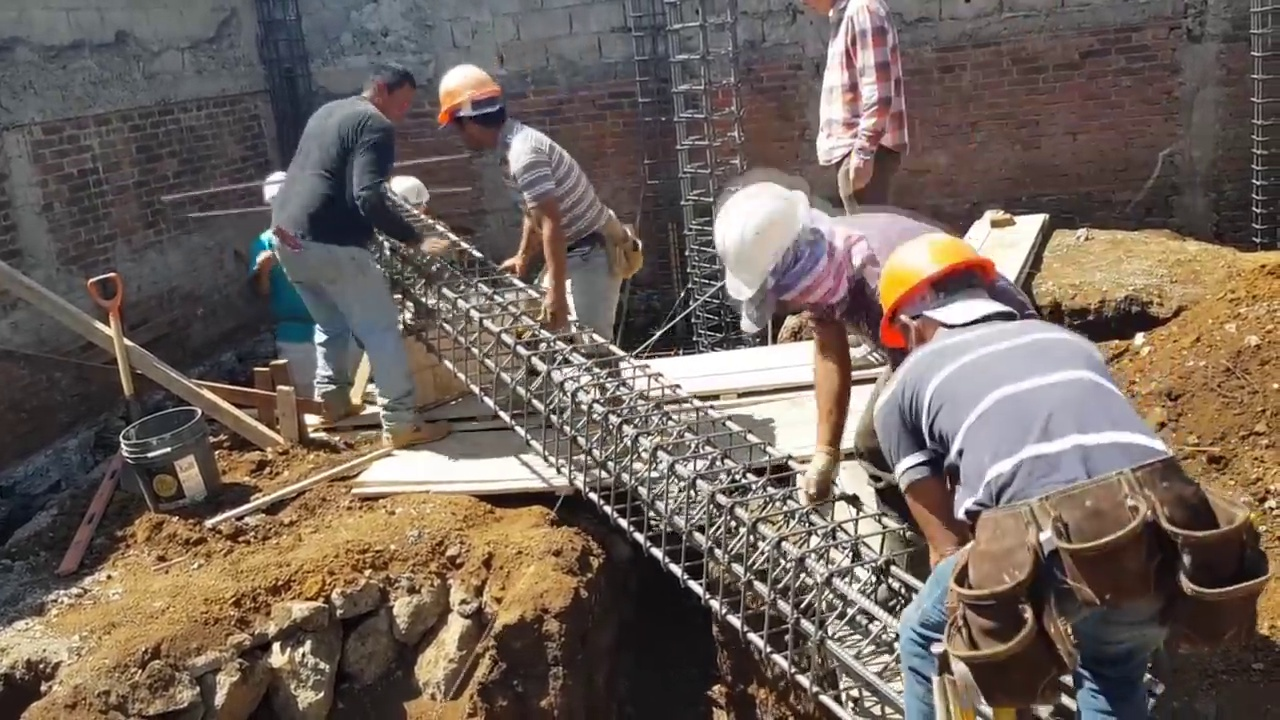helmet: (714, 176, 829, 306), (871, 233, 994, 347), (433, 60, 498, 126), (384, 175, 429, 209), (262, 173, 288, 204)
helmet-off: (355, 60, 414, 120)
helmet-on: (714, 198, 867, 329), (873, 234, 1029, 355), (430, 59, 519, 157), (379, 171, 433, 217)
person: (870, 227, 1258, 720), (711, 205, 958, 510), (265, 52, 428, 439), (433, 61, 644, 337), (810, 3, 907, 228), (245, 170, 318, 420), (379, 164, 463, 279)
